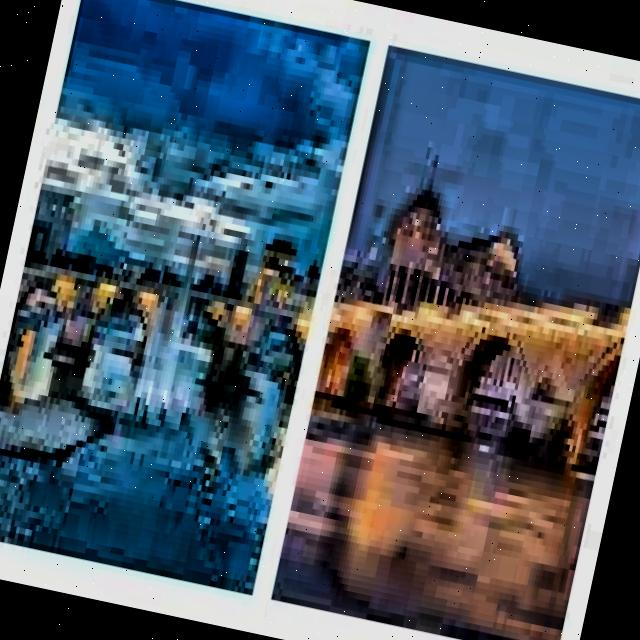stone bridge: (308, 242, 636, 474), (0, 221, 316, 435)
